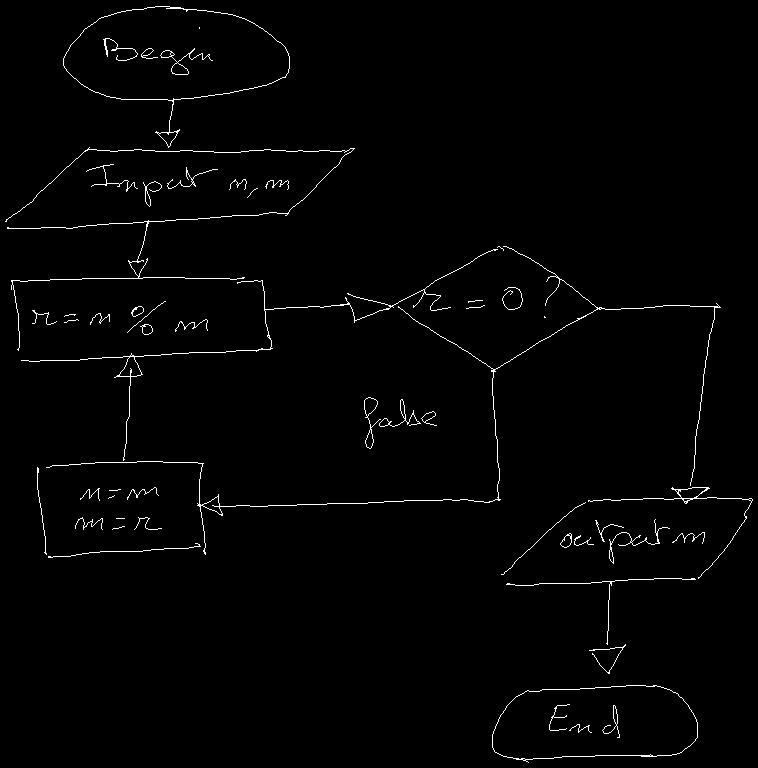arrow: (197, 369, 500, 515), (599, 303, 720, 503), (264, 293, 393, 322), (589, 581, 625, 673), (114, 353, 142, 460), (155, 98, 179, 147), (128, 220, 148, 277)
data: (5, 147, 354, 228), (501, 497, 752, 585)
decision: (386, 246, 601, 371)
process: (11, 277, 272, 361), (37, 461, 205, 557)
terminator: (63, 6, 289, 100), (492, 685, 697, 762)
text: (86, 164, 288, 206), (560, 519, 704, 563), (413, 276, 559, 317), (32, 301, 207, 334), (103, 27, 212, 74), (364, 397, 436, 448), (75, 487, 161, 529), (549, 704, 619, 737)
